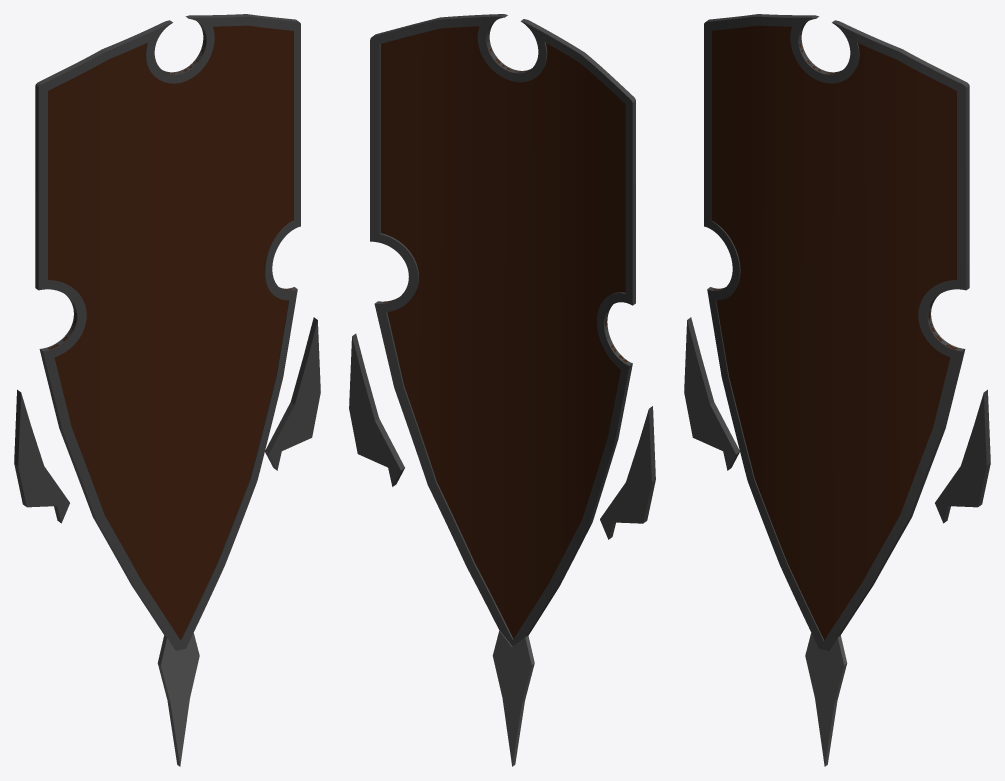
The picture shows the model from 3 angles, left to right: view 1: azimuth 30°, elevation 25°; view 2: azimuth 150°, elevation 25°; view 3: azimuth 330°, elevation 25°; orthographic projection.
Parts seen in each view (by area): view 1: dreadshield; view 2: dreadshield; view 3: dreadshield.
Part boxes in pixels (bbox=[...]): dreadshield: bbox=[14, 14, 320, 766]; dreadshield: bbox=[349, 14, 655, 766]; dreadshield: bbox=[684, 14, 990, 766].
Size of the model in its own units: 0.512 by 1.21 by 0.046.
